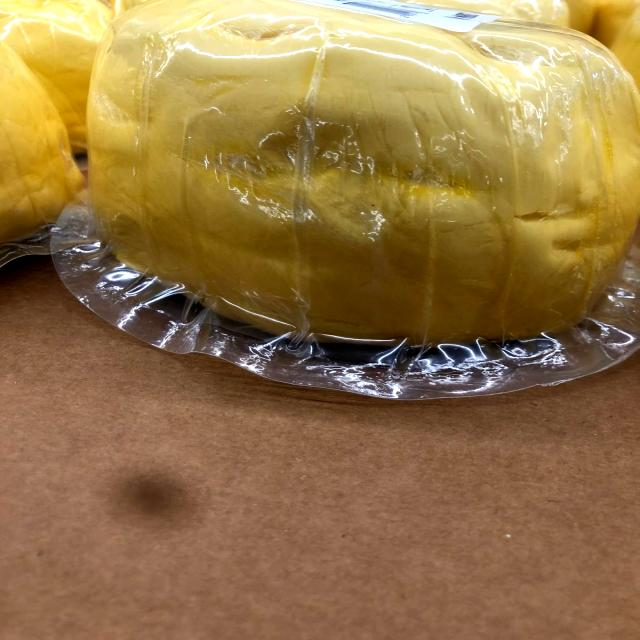cheese: (66, 11, 640, 381)
